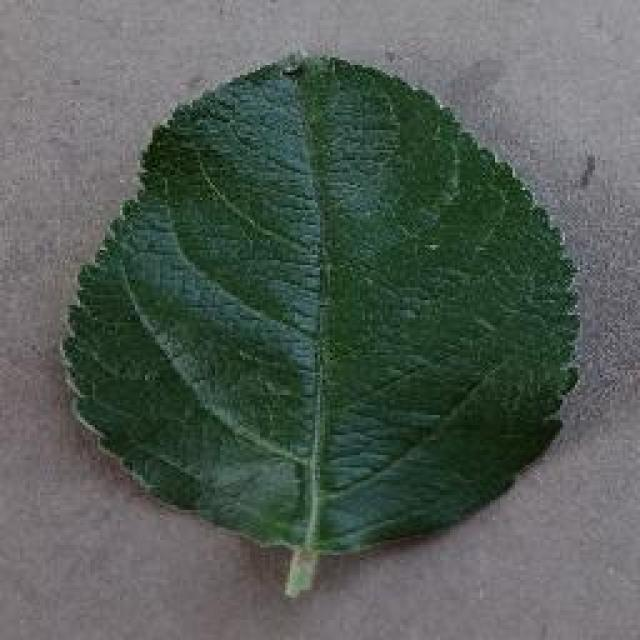apple healthy: (58, 48, 582, 598)
